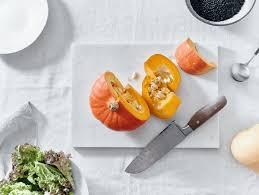Knife: (124, 95, 227, 174)
